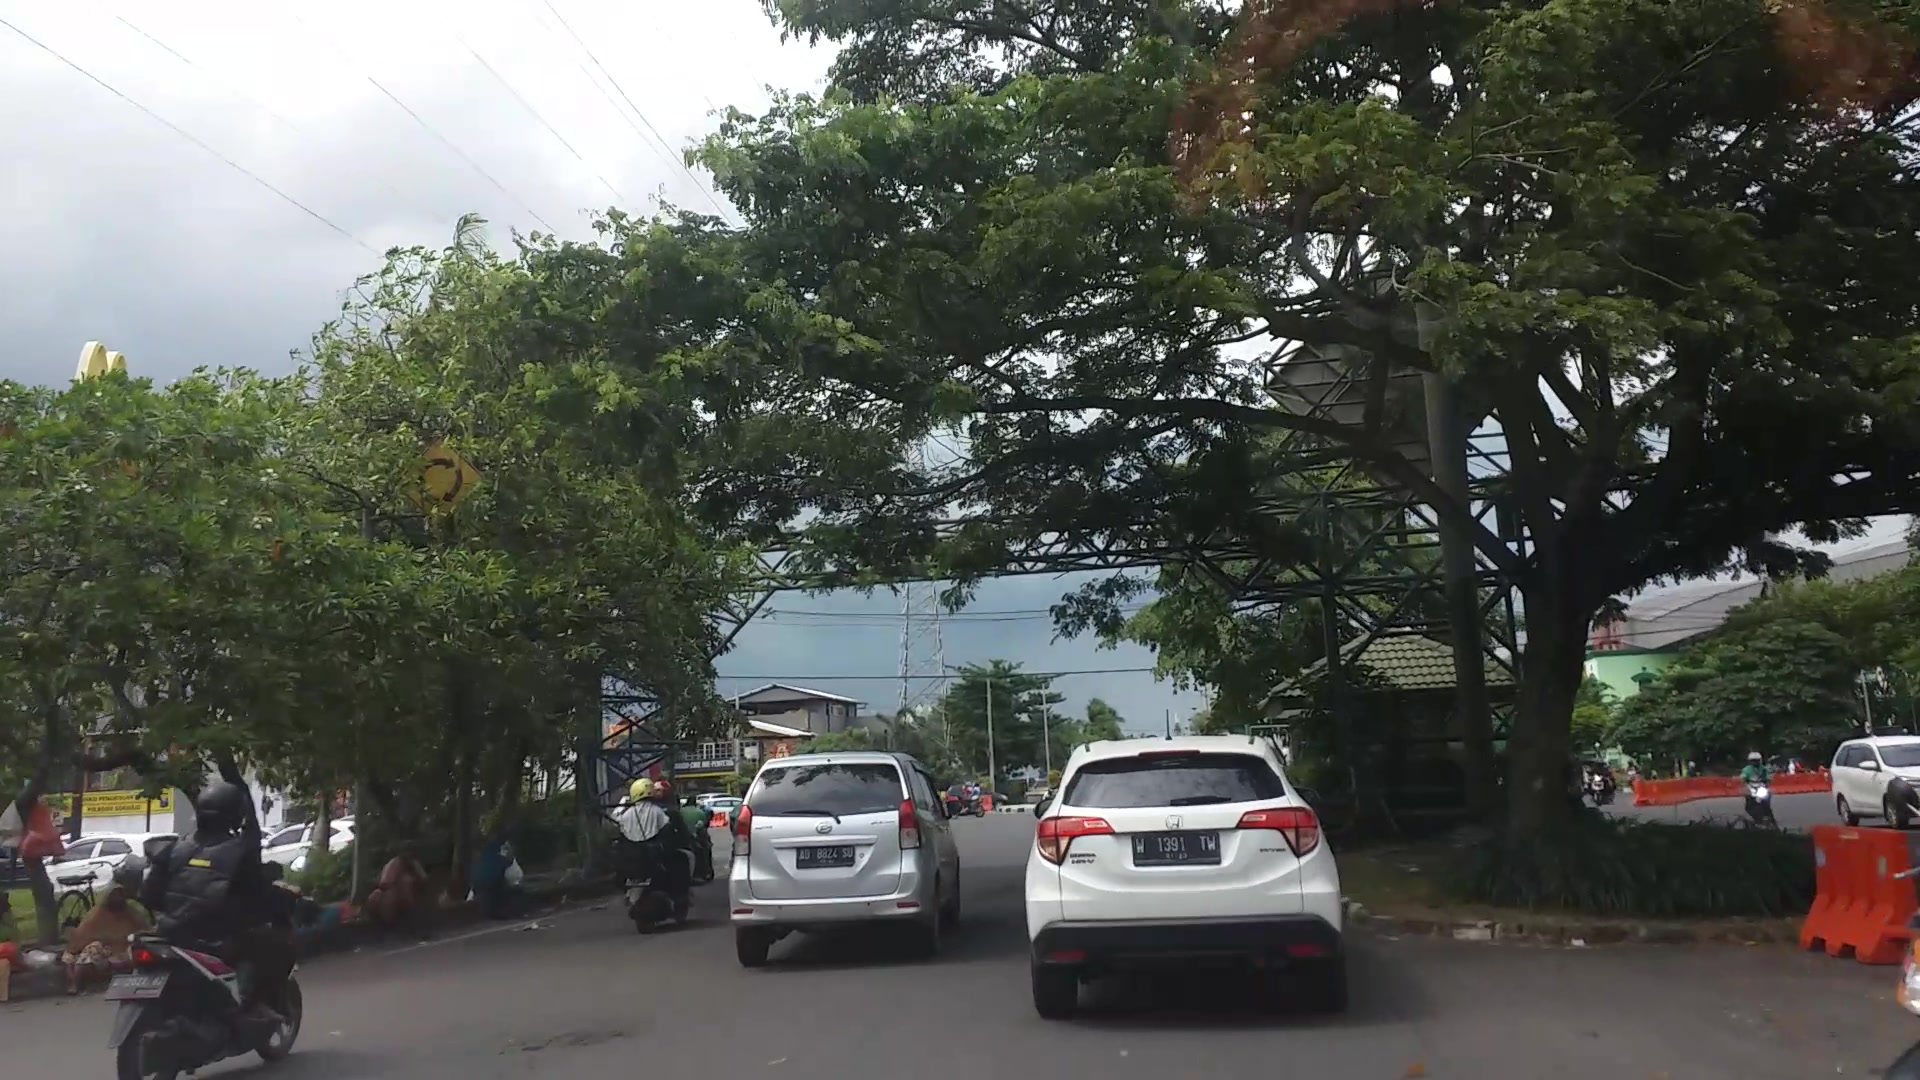plate_positive: (1131, 831, 1220, 865), (796, 847, 855, 868)
